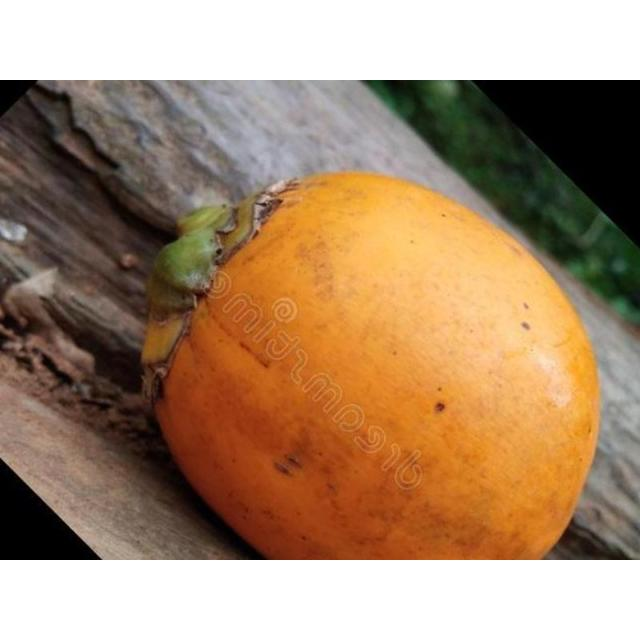good: (142, 172, 603, 559)
